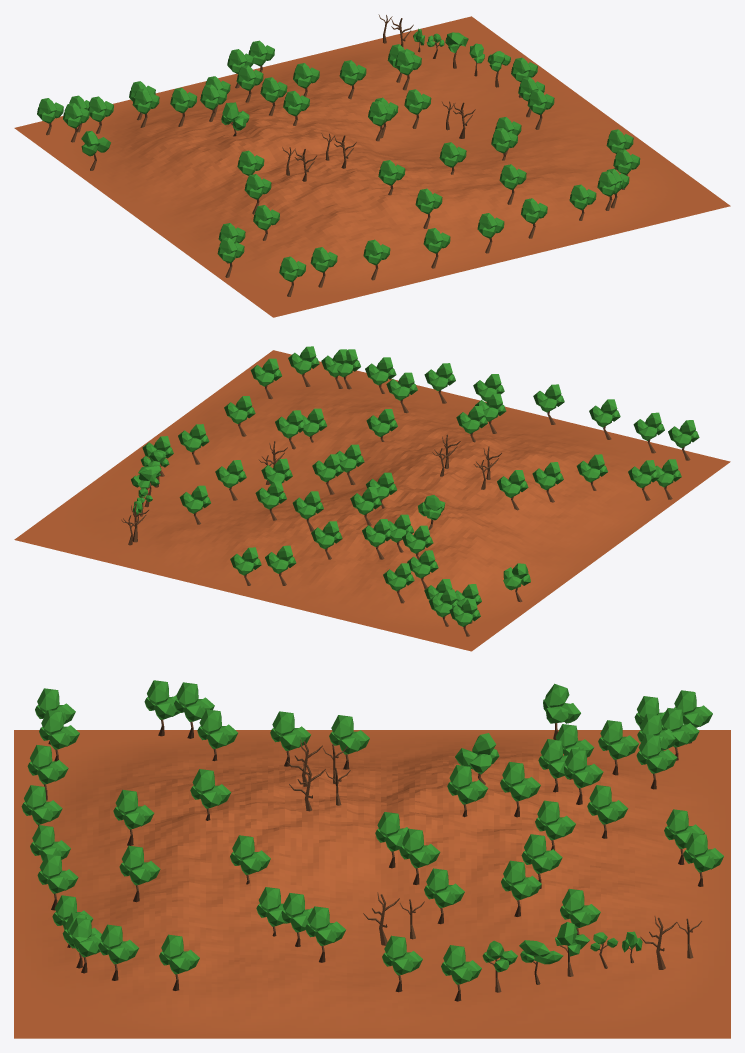
The model's file is my_terrain.gltf.
3 views of the same model, one above another, from view 1: azimuth 30°, elevation 25°; view 2: azimuth 150°, elevation 25°; view 3: azimuth 270°, elevation 25° (orthographic). The views are drawn at different scales.
Visible parts, largest first — view 1: Landscape, Tree_3.016; view 2: Landscape, Tree_3.016; view 3: Landscape, Tree_3.016.
Boxes of the visible parts, bbox=[...] form: Landscape: bbox=[14, 16, 730, 317]; Tree_3.016: bbox=[37, 14, 640, 296]; Landscape: bbox=[14, 350, 730, 651]; Tree_3.016: bbox=[121, 346, 699, 636]; Landscape: bbox=[14, 730, 730, 1038]; Tree_3.016: bbox=[21, 680, 723, 1001].
Size of the model in its own units: 710 by 98.5 by 696.
